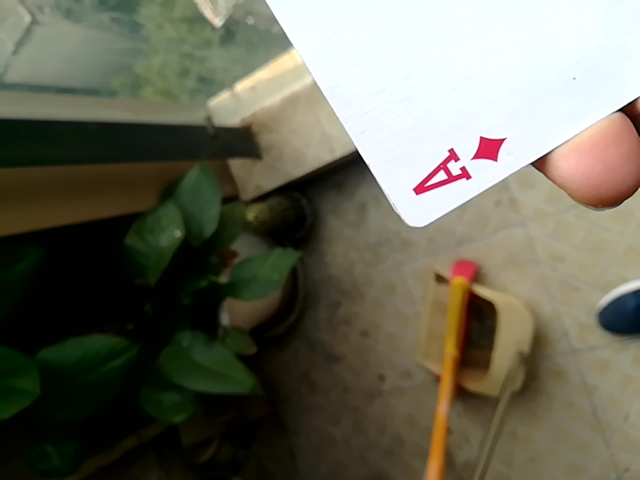fk a: (217, 0, 640, 244)
